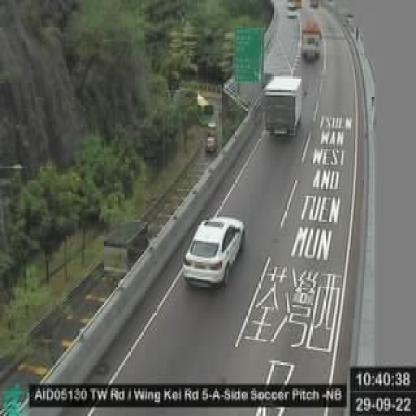Car: (177, 208, 255, 293)
Truck: (260, 73, 308, 146), (298, 21, 326, 62)
